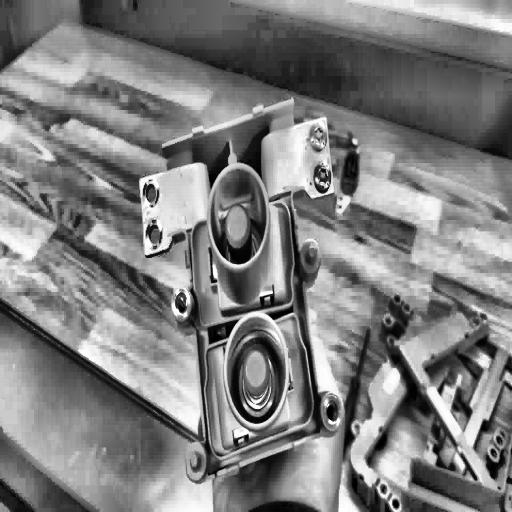connector: (128, 97, 354, 512)
